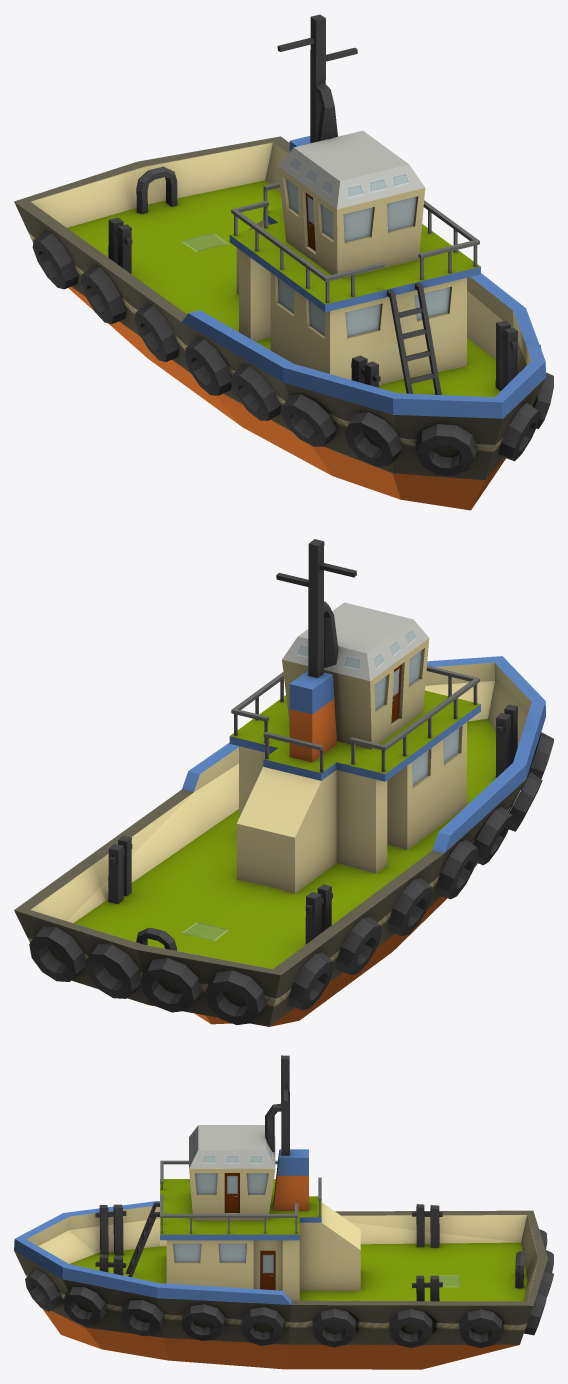
3 views of the same model, one above another, from view 1: azimuth 30°, elevation 25°; view 2: azimuth 150°, elevation 25°; view 3: azimuth 270°, elevation 25° (orthographic). The views are drawn at different scales.
Parts seen in each view (by area): view 1: Tugboat_mesh.464; view 2: Tugboat_mesh.464; view 3: Tugboat_mesh.464.
Part boxes in pixels (bbox=[...]): Tugboat_mesh.464: bbox=[14, 14, 553, 510]; Tugboat_mesh.464: bbox=[14, 539, 553, 1026]; Tugboat_mesh.464: bbox=[14, 1055, 553, 1369].
Bounding box in the file's own units: 4.73 × 6.39 × 10.59.
Materials: 1 (1 with a texture image).
